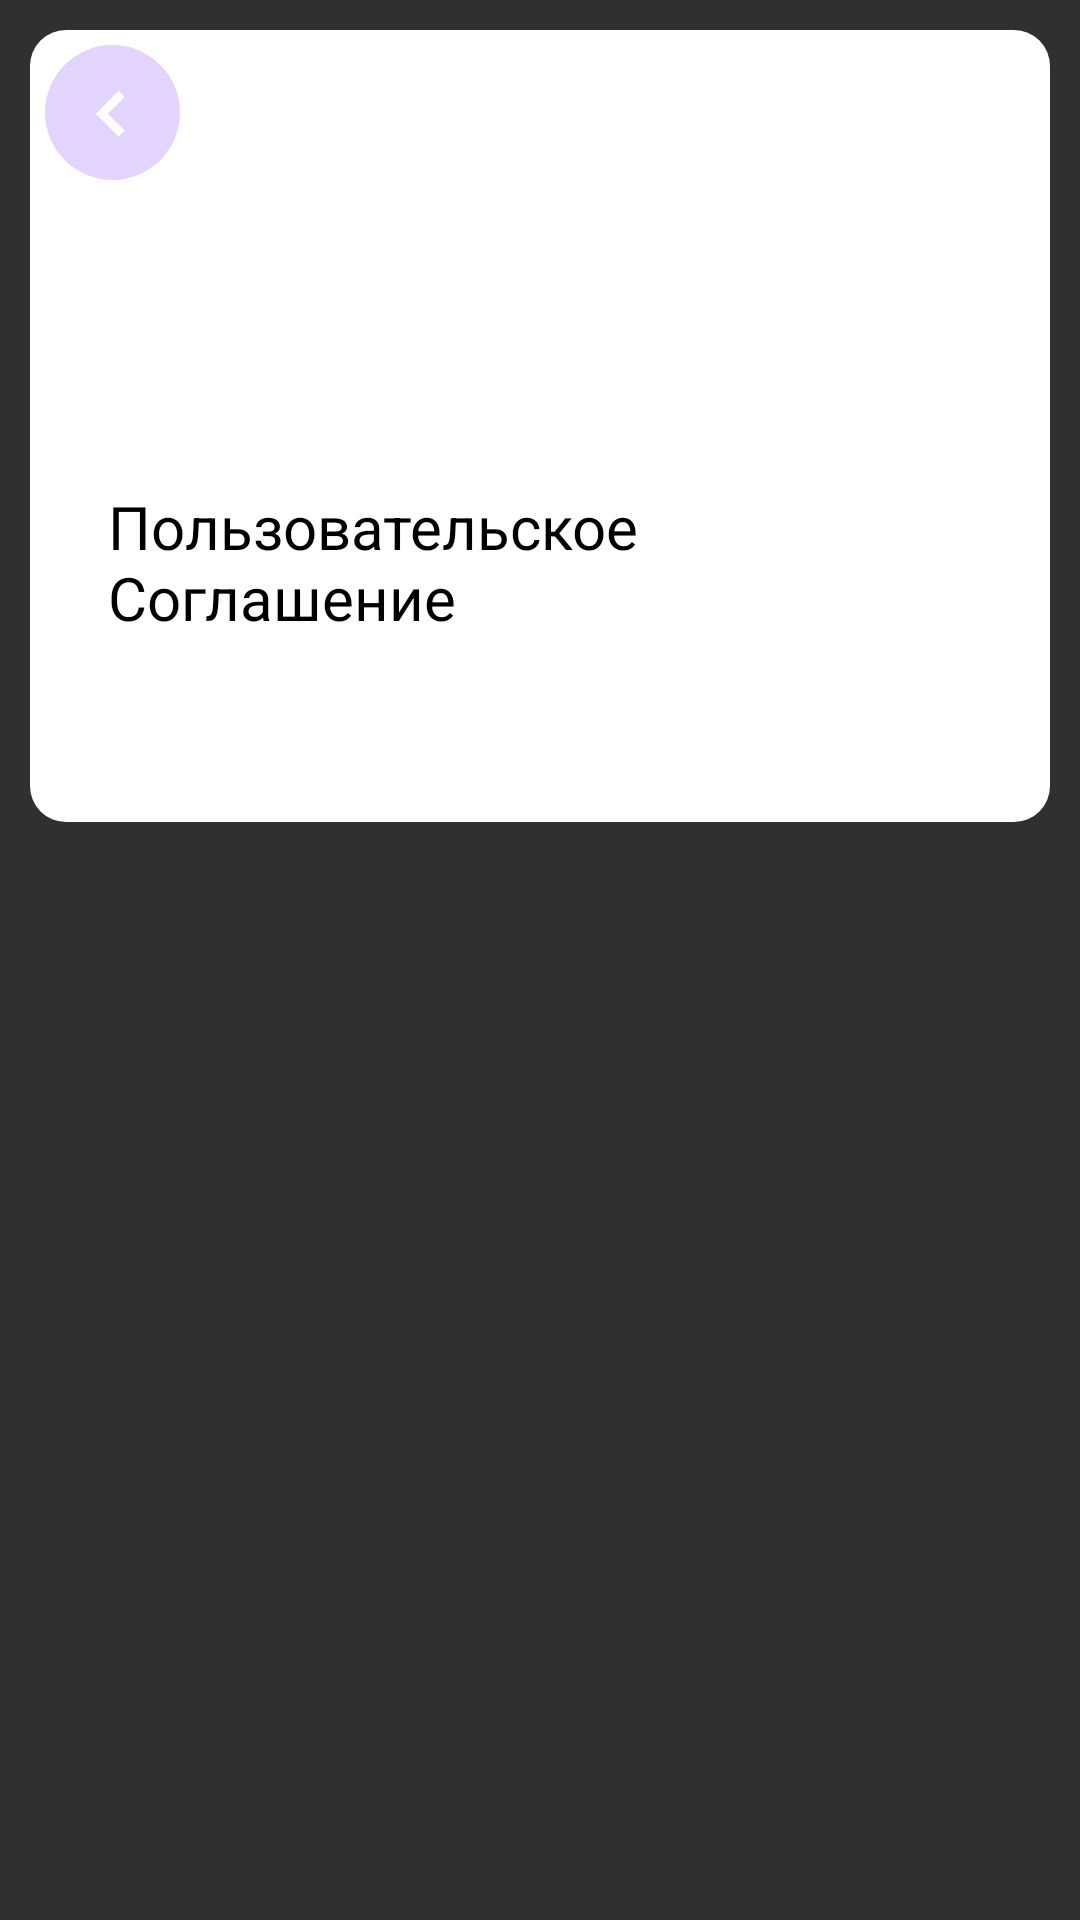

Where icons sit on this 1080*1920 app screen, as (x1, y1, x2, y2):
Кнопка назад: (45, 45, 180, 180)
